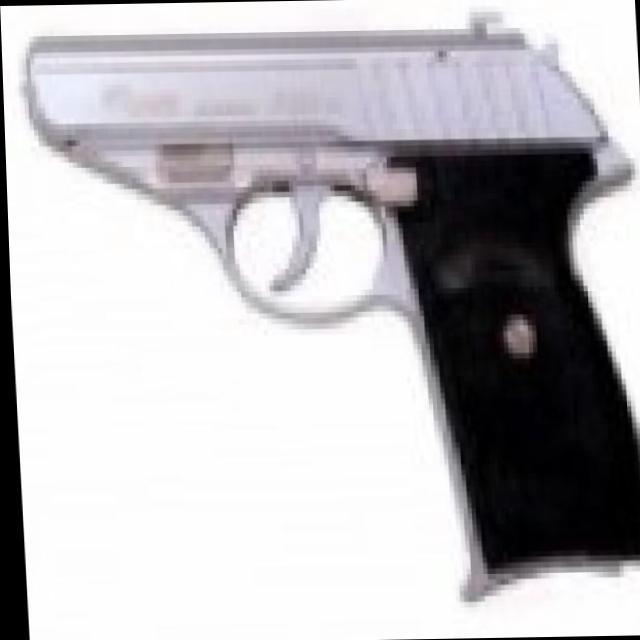weapon: (14, 4, 640, 604)
